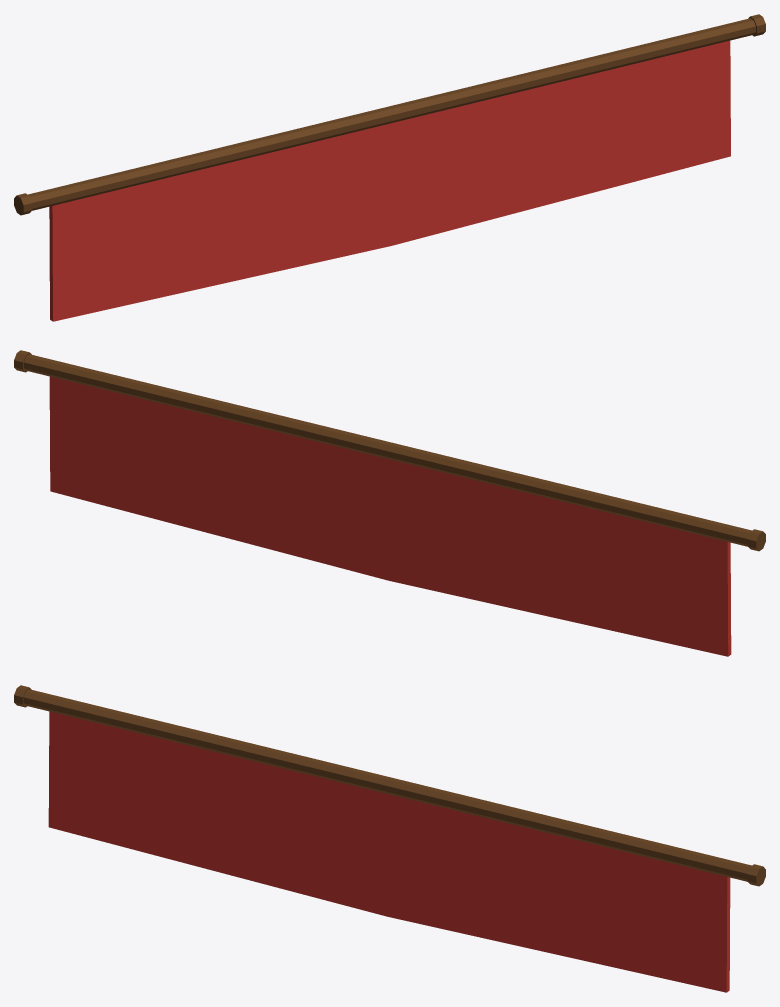
Rendered from Banner_4.fbx.
3 views of the same model, one above another, from view 1: azimuth 30°, elevation 25°; view 2: azimuth 150°, elevation 25°; view 3: azimuth 330°, elevation 25° (orthographic).
Parts seen in each view (by area): view 1: bannière_4; view 2: bannière_4; view 3: bannière_4.
Part boxes in pixels (left/top/right/bottom): bannière_4: left=14, top=14, right=765, bottom=321; bannière_4: left=14, top=350, right=765, bottom=656; bannière_4: left=14, top=685, right=765, bottom=992.
Size of the model in its own units: 494 by 87.73 by 11.03.
